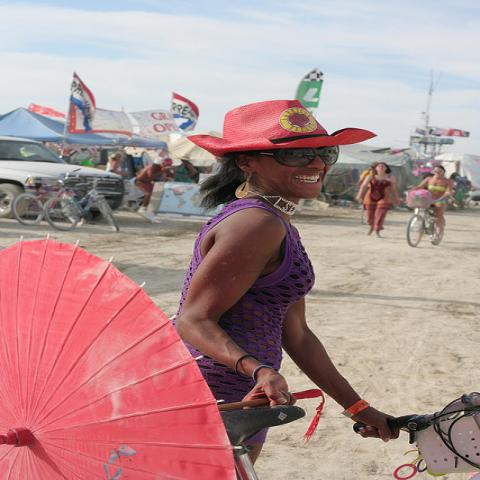truck: (1, 135, 126, 220)
